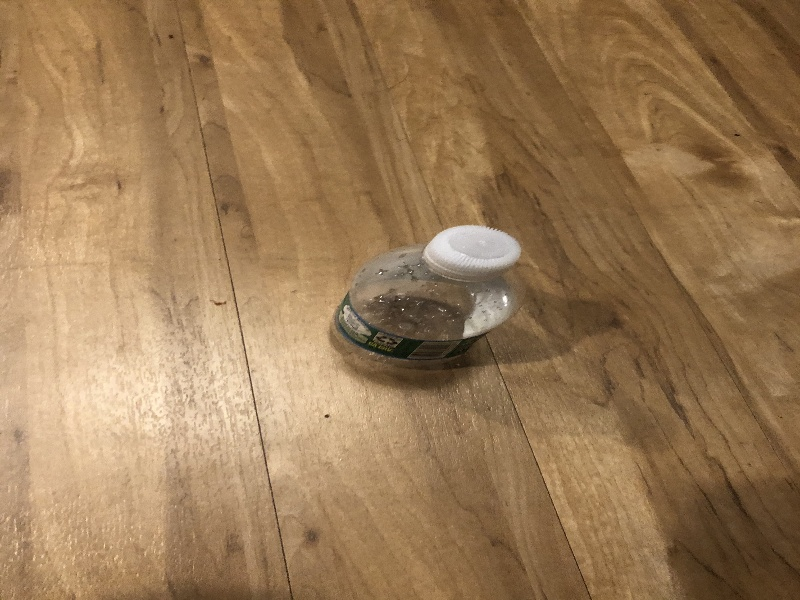plastic: (331, 223, 533, 377)
